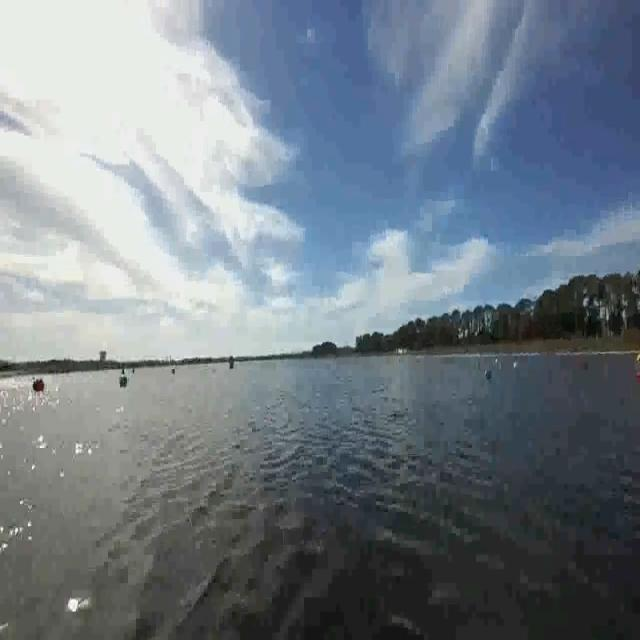blue-buoy: (118, 373, 129, 388)
red-buoy: (32, 375, 44, 391)
